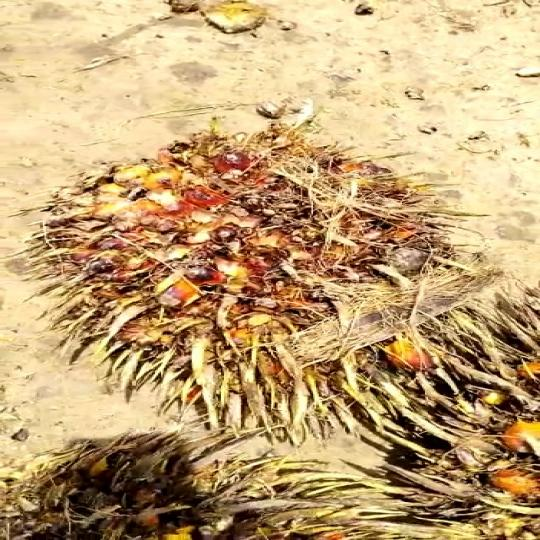terlalu masak: (0, 84, 540, 468)
